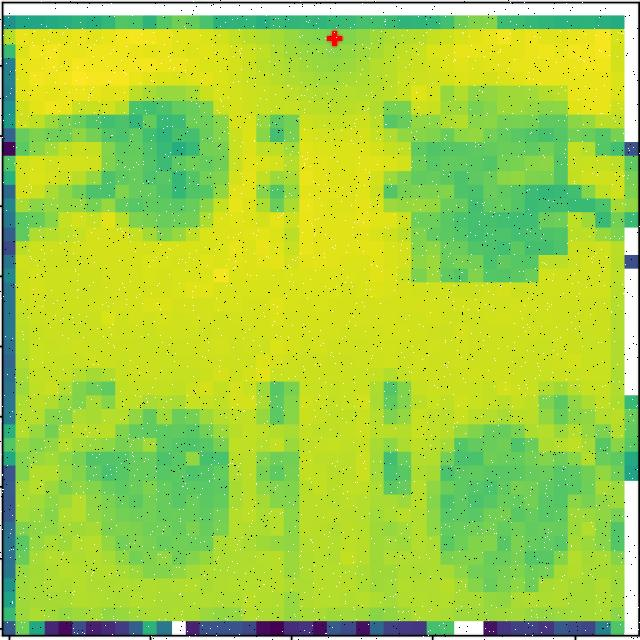Concrete: (438, 382, 590, 595)
Glass: (76, 375, 241, 585)
Metal: (391, 58, 579, 304)
Wood: (81, 80, 247, 267)
